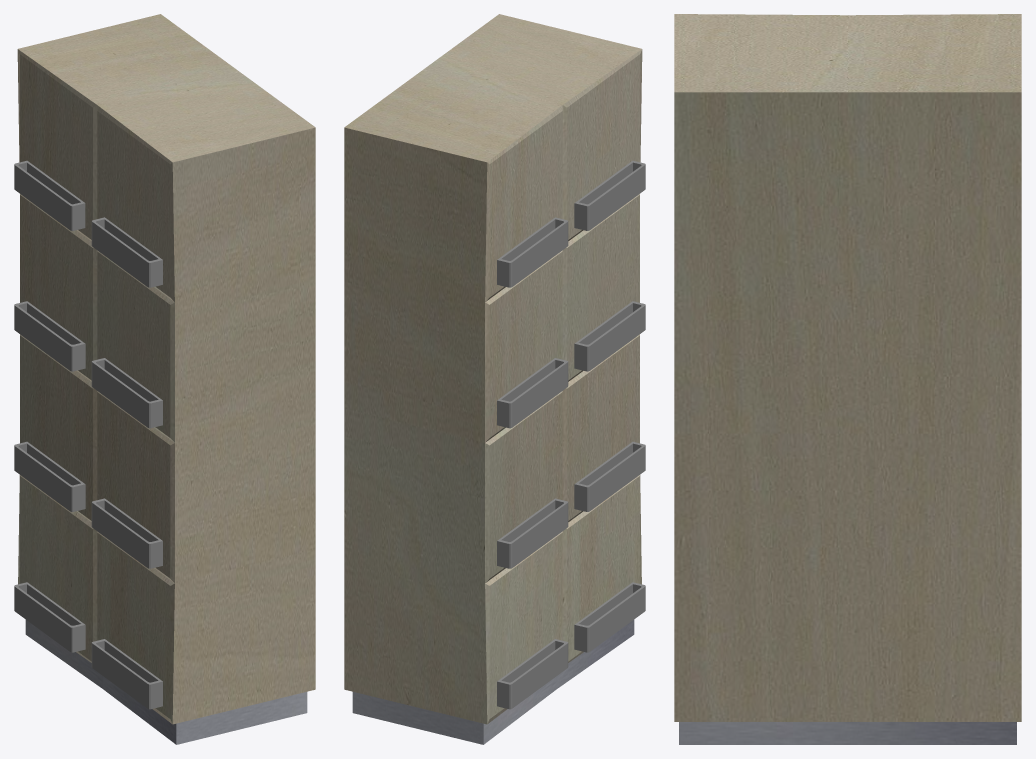
The model's file is PaperShelf.fbx.
3 renders of one model, left to right at view 1: azimuth 30°, elevation 25°; view 2: azimuth 150°, elevation 25°; view 3: azimuth 270°, elevation 25°, orthographic. The views are drawn at different scales.
Visible parts, largest first — view 1: PaperShelf; view 2: PaperShelf; view 3: PaperShelf.
Part boxes in pixels (<box>): PaperShelf: <box>14,14,315,744</box>; PaperShelf: <box>344,14,645,744</box>; PaperShelf: <box>674,14,1021,744</box>.
Bounding box in the file's own units: 140 × 500 × 240.
